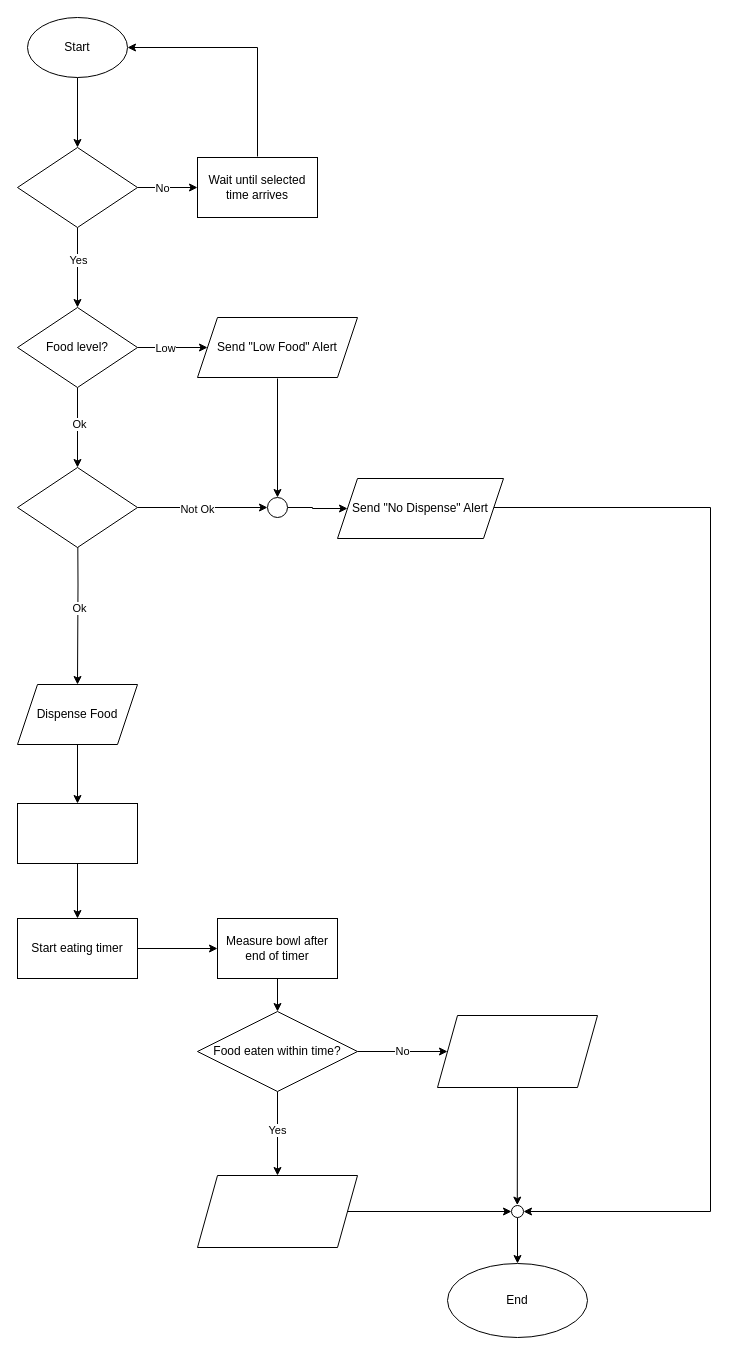
Image size: 736x1355. Some labels were removed from this diagram. Each missing label, with the centre of its shape:
Log into feeding history database: point 277,1211
Measure bowl weight after dispense: point 77,833
Motor condition?: point 77,507
Selective Time?: point 77,187
Send "Not eaten" alert: point 517,1051
